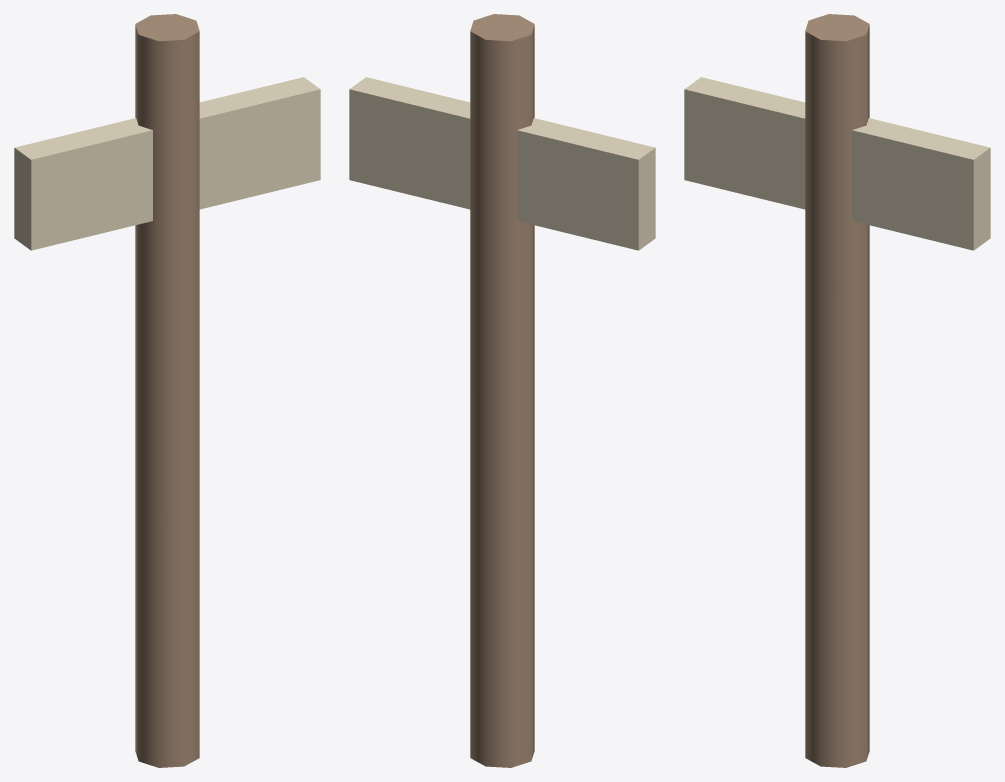
Rendered from signpost.gltf.
3 views of the same model, side by side, from view 1: azimuth 30°, elevation 25°; view 2: azimuth 150°, elevation 25°; view 3: azimuth 330°, elevation 25° (orthographic).
Parts seen in each view (by area): view 1: Post, Plank; view 2: Post, Plank; view 3: Post, Plank.
Part boxes in pixels (x1=…): Post: x1=135, y1=14, x2=199, y2=767; Plank: x1=14, y1=77, x2=320, y2=250; Post: x1=470, y1=14, x2=534, y2=767; Plank: x1=349, y1=77, x2=655, y2=250; Post: x1=805, y1=14, x2=869, y2=767; Plank: x1=684, y1=77, x2=990, y2=250.
Bounding box in the file's own units: 0.5 × 1.2 × 0.1.
